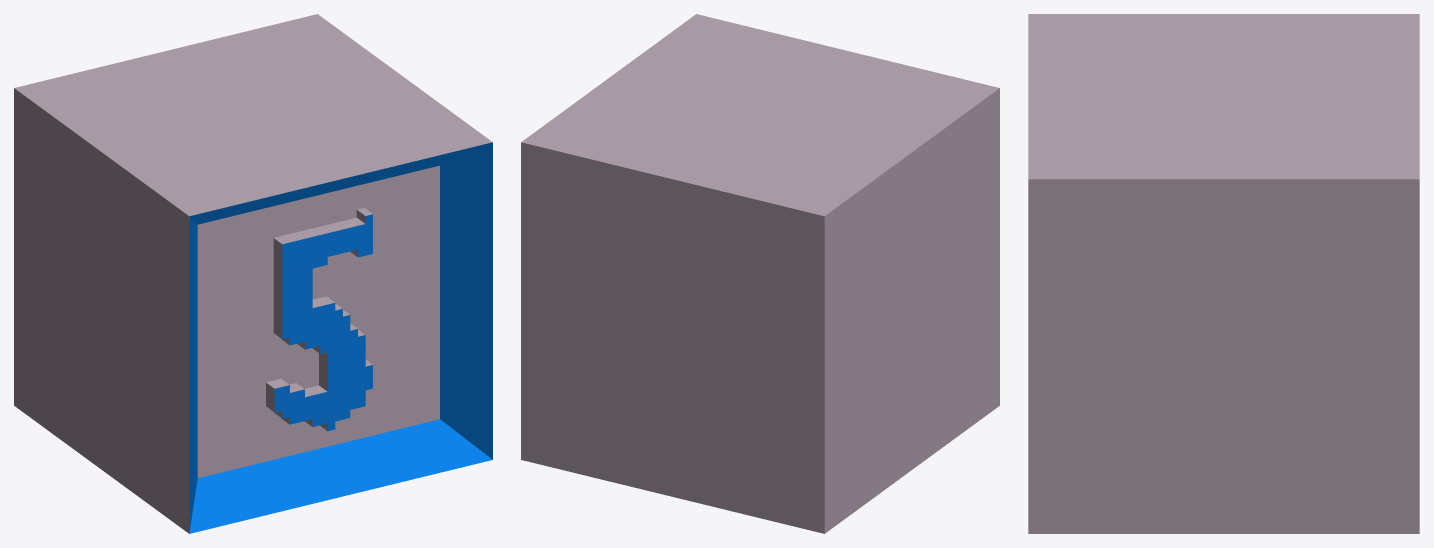
File: Block5.fbx
3 views of the same model, side by side, from view 1: azimuth 30°, elevation 25°; view 2: azimuth 150°, elevation 25°; view 3: azimuth 270°, elevation 25° (orthographic). The views are drawn at different scales.
Parts seen in each view (by area): view 1: Cube; view 2: Cube; view 3: Cube.
Part boxes in pixels (x1,y1,x2,y2): Cube: [14, 14, 492, 533]; Cube: [521, 14, 999, 533]; Cube: [1028, 14, 1419, 533].
Bounding box in the file's own units: 2000 × 2000 × 2000.
